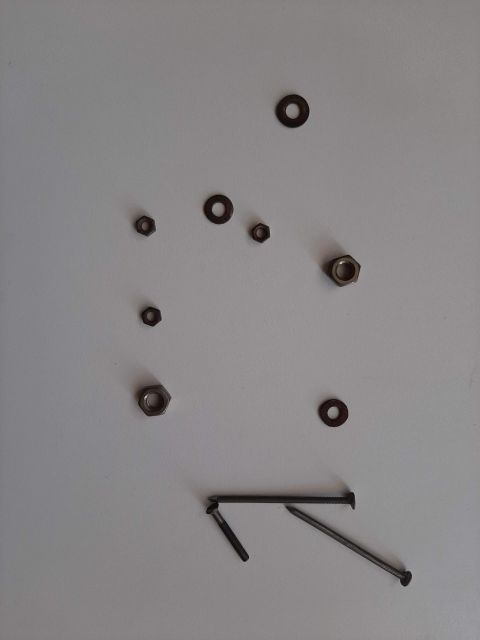gwozdz: (275, 495, 425, 595), (185, 475, 355, 505)
nakretka: (105, 185, 175, 245), (125, 355, 185, 415), (305, 235, 365, 295), (125, 295, 175, 325), (245, 205, 275, 245)
podkladka: (185, 175, 245, 245), (265, 65, 325, 135), (305, 365, 365, 425)
sruba: (175, 495, 245, 565)
